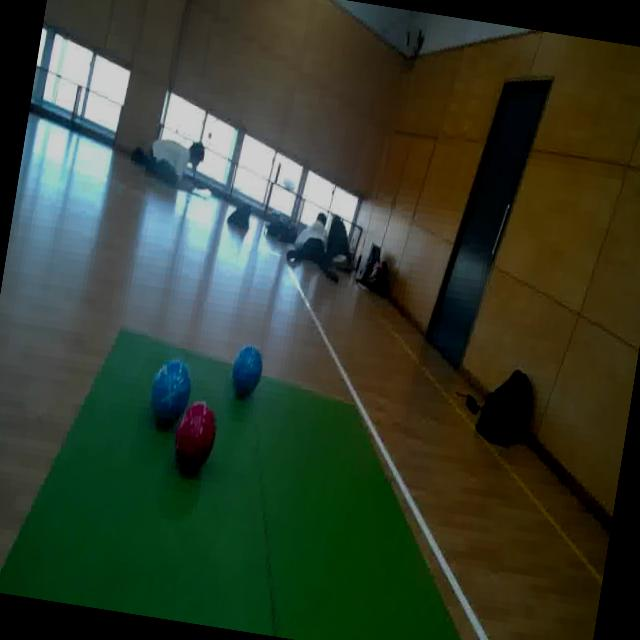blue_ball: (145, 354, 198, 428), (226, 341, 268, 404)
red_ball: (166, 398, 222, 483)
